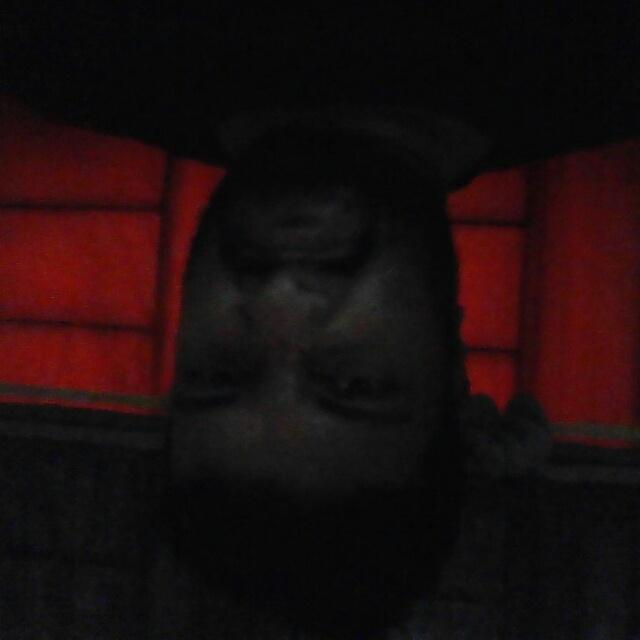Disgust: (150, 126, 469, 500)
